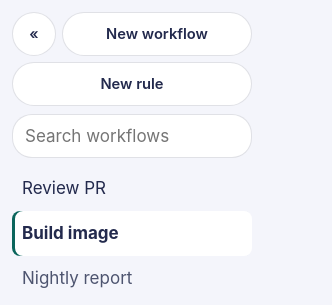
pane choice in localStorage (t21 criterion 2) › works without storage: reads expanded, writes quietly
Click the button named "Hide workflows".
click(34, 34)  # box [12,12,56,56]
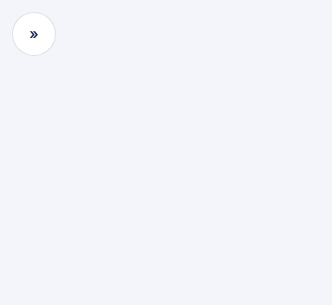
Check: the button named "Show workflows" is shown, box [12,12,56,56]
